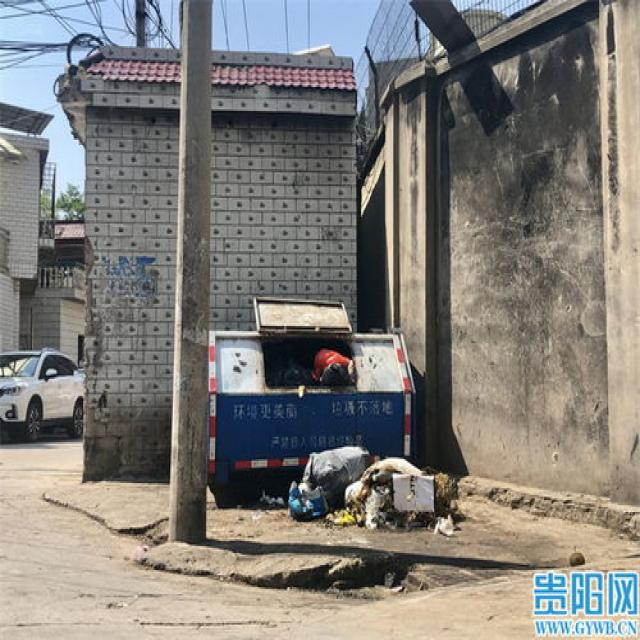garbage: (258, 442, 460, 536)
overflow: (209, 326, 416, 481)
